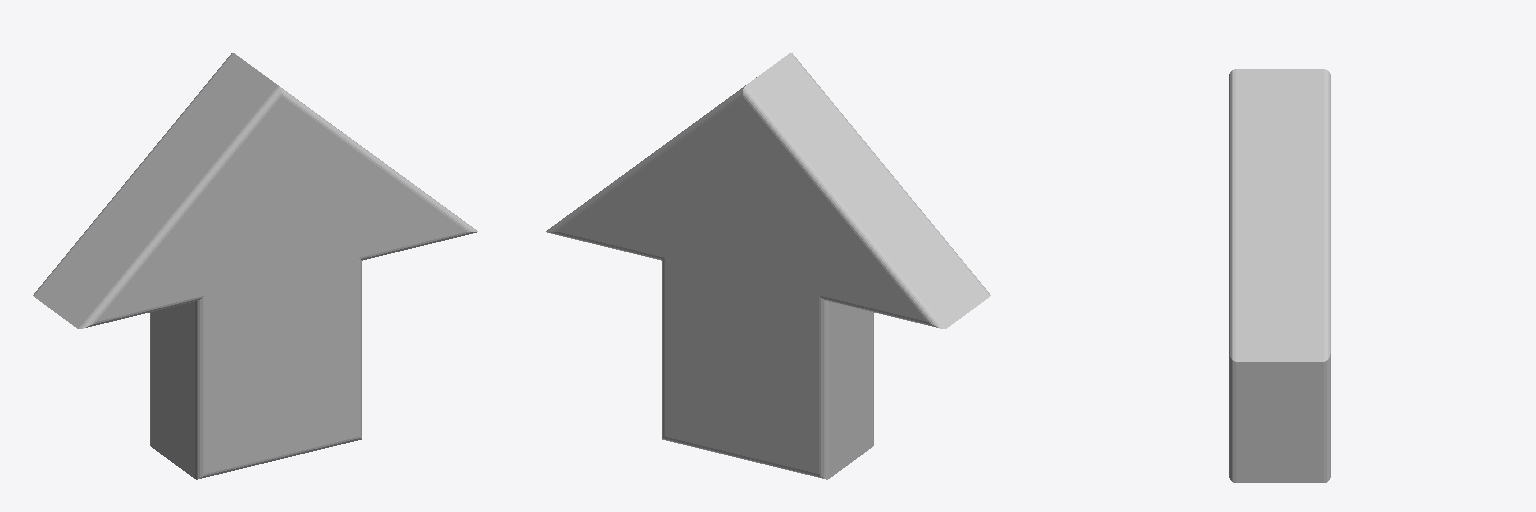
File: riddick_upvote_halberd_straigntened.obj
The picture shows the model from 3 angles: view 1: azimuth 30°, elevation 25°; view 2: azimuth 150°, elevation 25°; view 3: azimuth 270°, elevation 25°; orthographic projection.
Parts seen in each view (by area): view 1: plain_upvote_beveled:pCube1 pCube1; view 2: plain_upvote_beveled:pCube1 pCube1; view 3: plain_upvote_beveled:pCube1 pCube1.
Boxes of the visible parts, box(x1,y1,x2,y2) form: plain_upvote_beveled:pCube1 pCube1: box(33, 53, 477, 479); plain_upvote_beveled:pCube1 pCube1: box(546, 53, 990, 479); plain_upvote_beveled:pCube1 pCube1: box(1229, 69, 1330, 482).
Bounding box in the file's own units: 11.18 × 9.97 × 2.47.